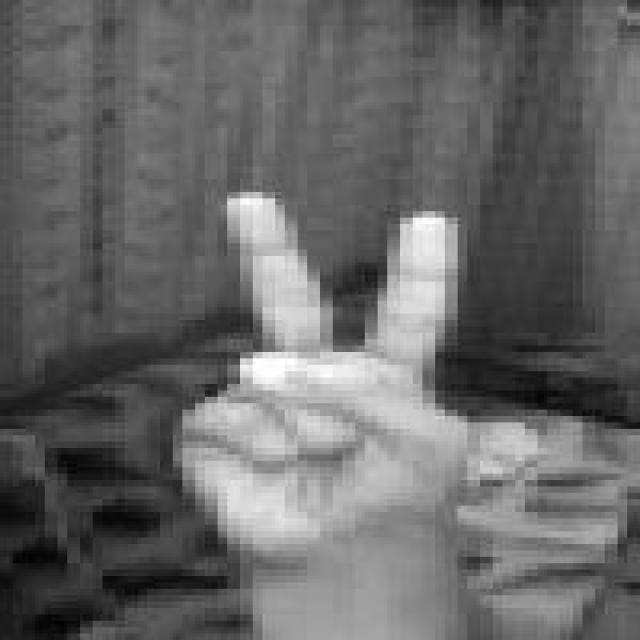V: (176, 190, 486, 584)
